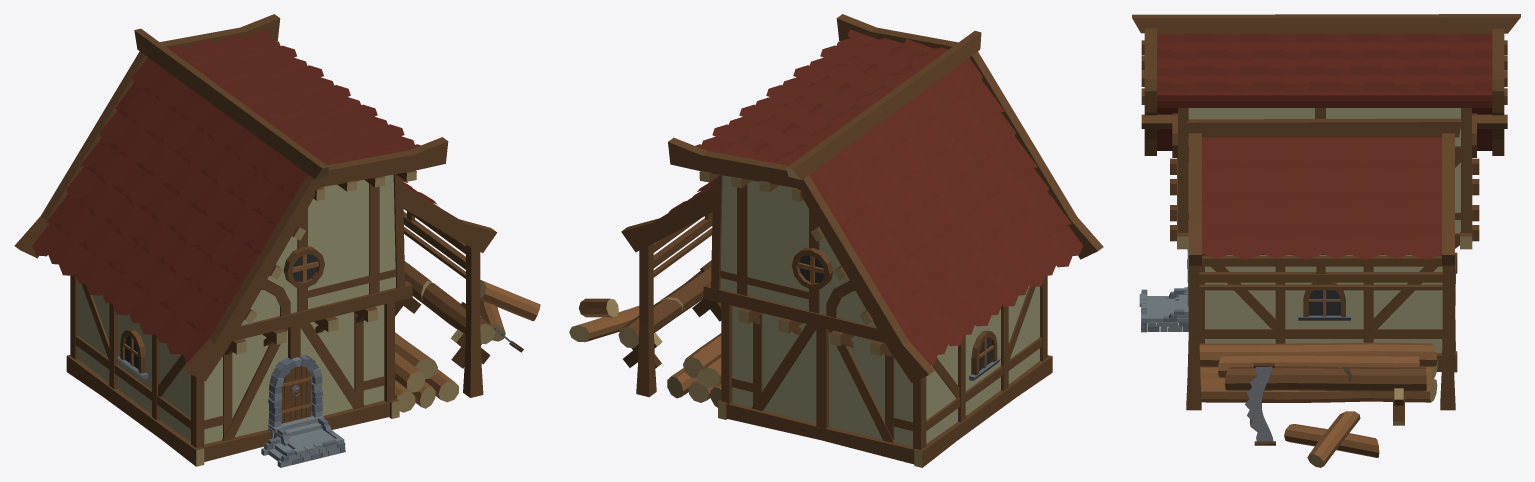
Rendered from london_bld_carpenter.glb.
3 views of the same model, side by side, from view 1: azimuth 30°, elevation 25°; view 2: azimuth 150°, elevation 25°; view 3: azimuth 270°, elevation 25° (orthographic). The views are drawn at different scales.
Visible parts, largest first — view 1: Sawmill; view 2: Sawmill; view 3: Sawmill.
Boxes of the visible parts, box(x1,y1,x2,y2) form: Sawmill: box(14, 14, 540, 467); Sawmill: box(569, 14, 1103, 467); Sawmill: box(1132, 14, 1520, 467).
Size of the model in its own units: 19.8 by 12.88 by 14.78.
